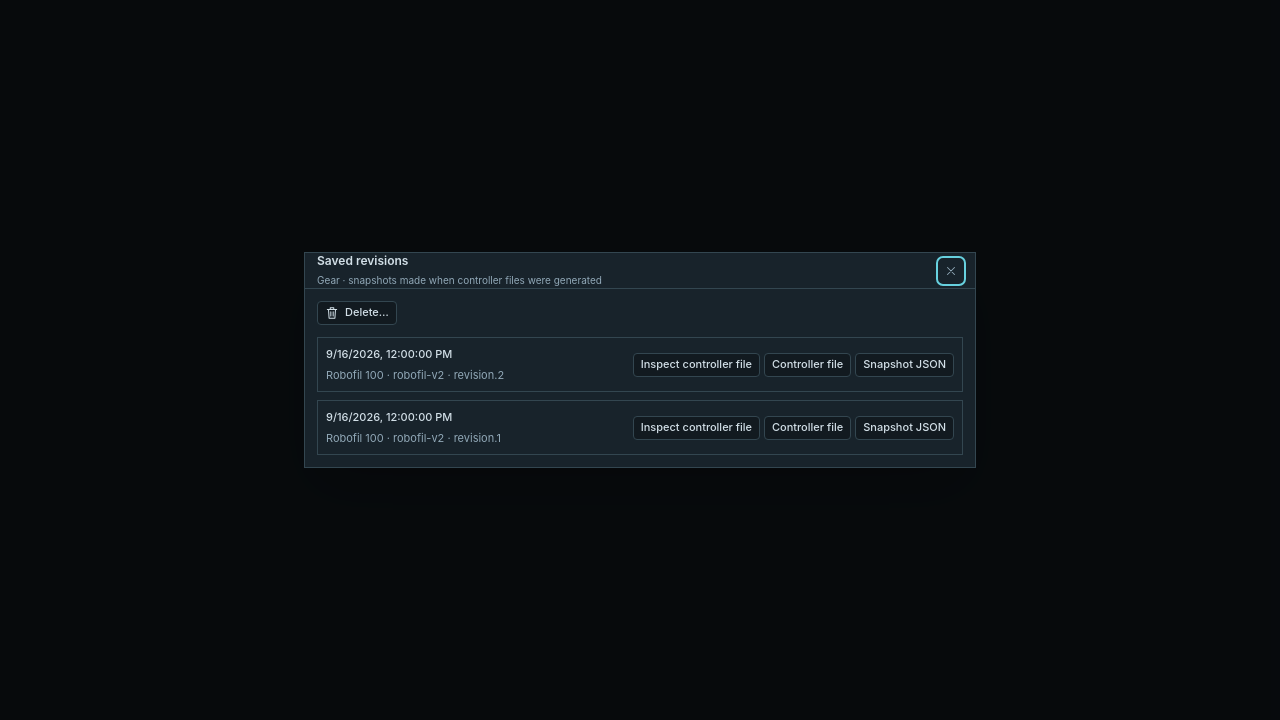
Test case: ProjectRevisionsDialog deletion selection › shows checkboxes only in delete mode and confirms the selected set once
Click the button "Delete…".
click(357, 313)  # box x1=317 y1=301 x2=397 y2=325
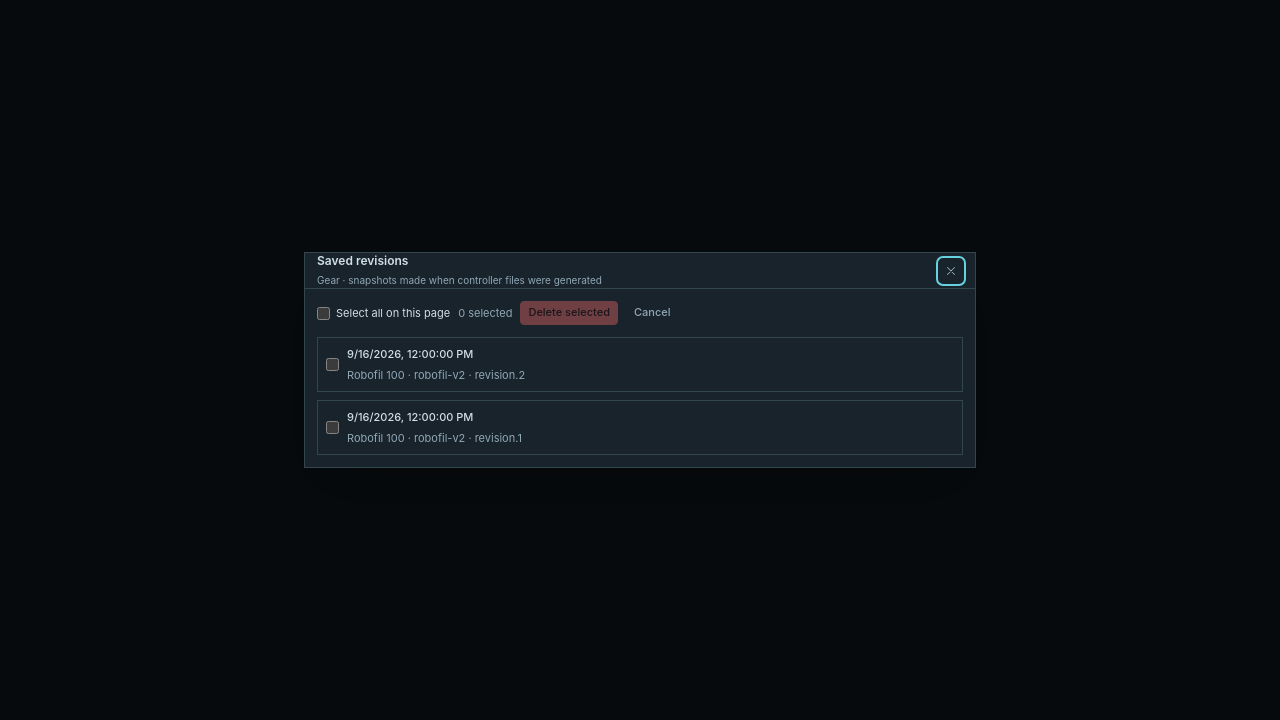
Check: the number of checkboxes is 3
Click the checkbox named "Select revision revision.2".
click(332, 364)  # box x1=326 y1=358 x2=339 y2=371
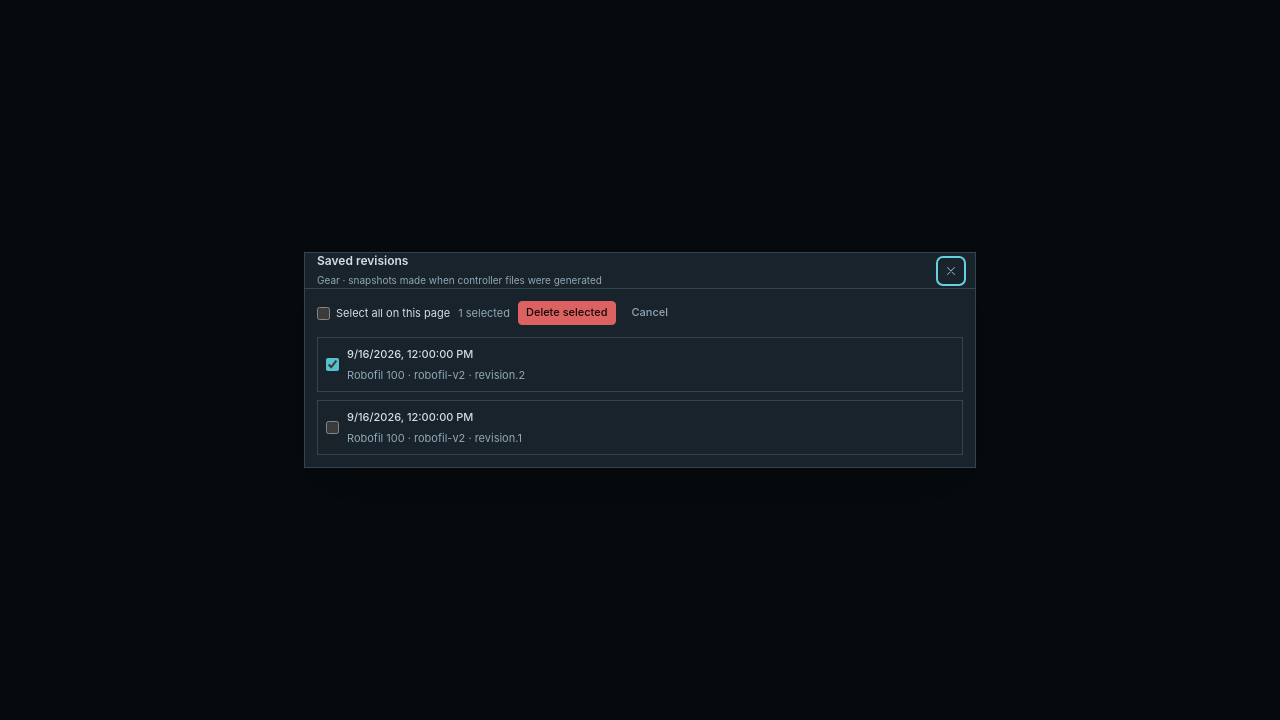
Check: the text "1 selected" is shown, box x1=458 y1=305 x2=510 y2=321
Click the checkbox labelled "Select all on this page".
click(324, 313)  # box x1=317 y1=306 x2=330 y2=320
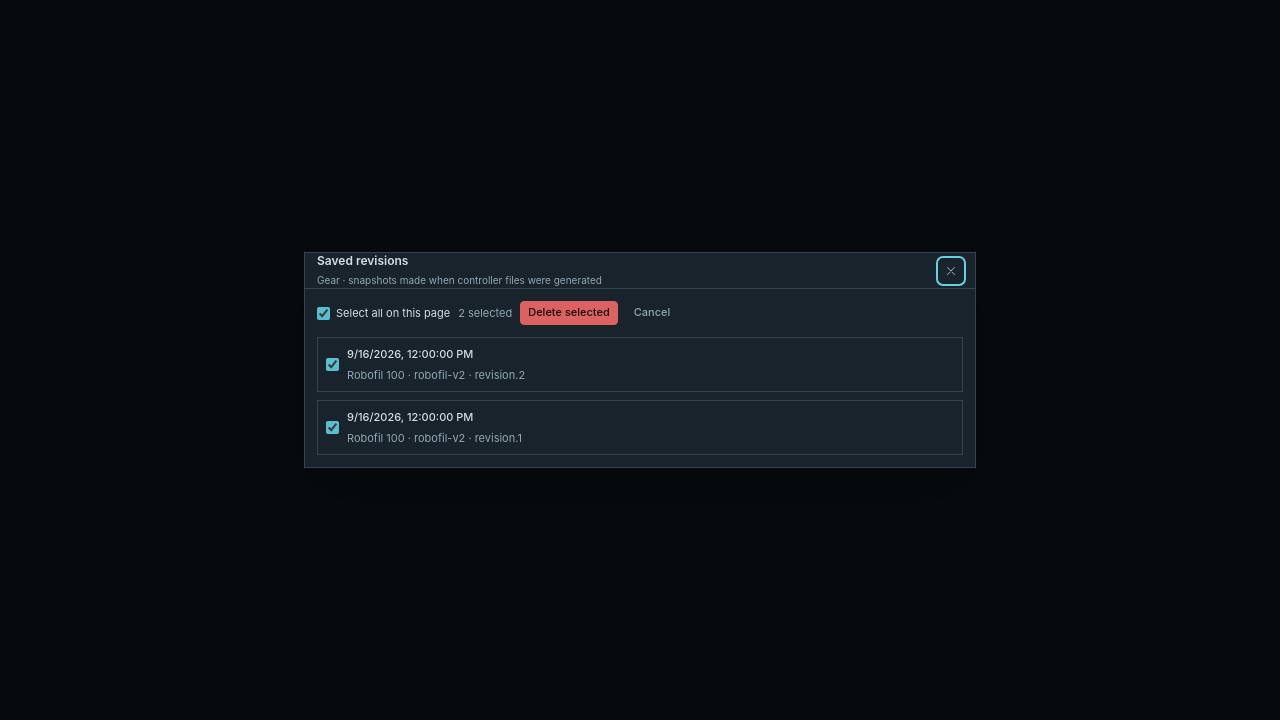
Check: the text "2 selected" is shown, box x1=458 y1=305 x2=512 y2=321
Click the button "Delete selected".
click(569, 313)  # box x1=520 y1=301 x2=618 y2=325
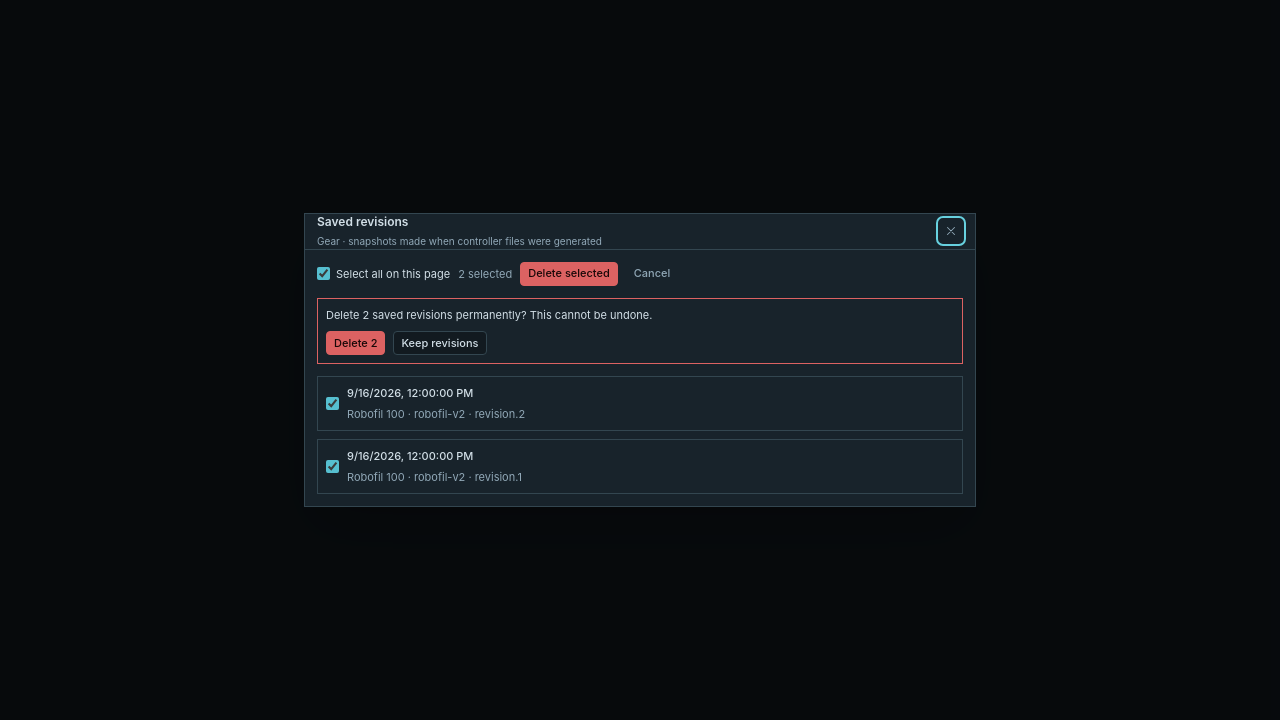
Check: the text "cannot be undone" is shown, box x1=453 y1=308 x2=652 y2=322
Click the button "Delete 2".
click(356, 343)  # box x1=326 y1=331 x2=386 y2=355
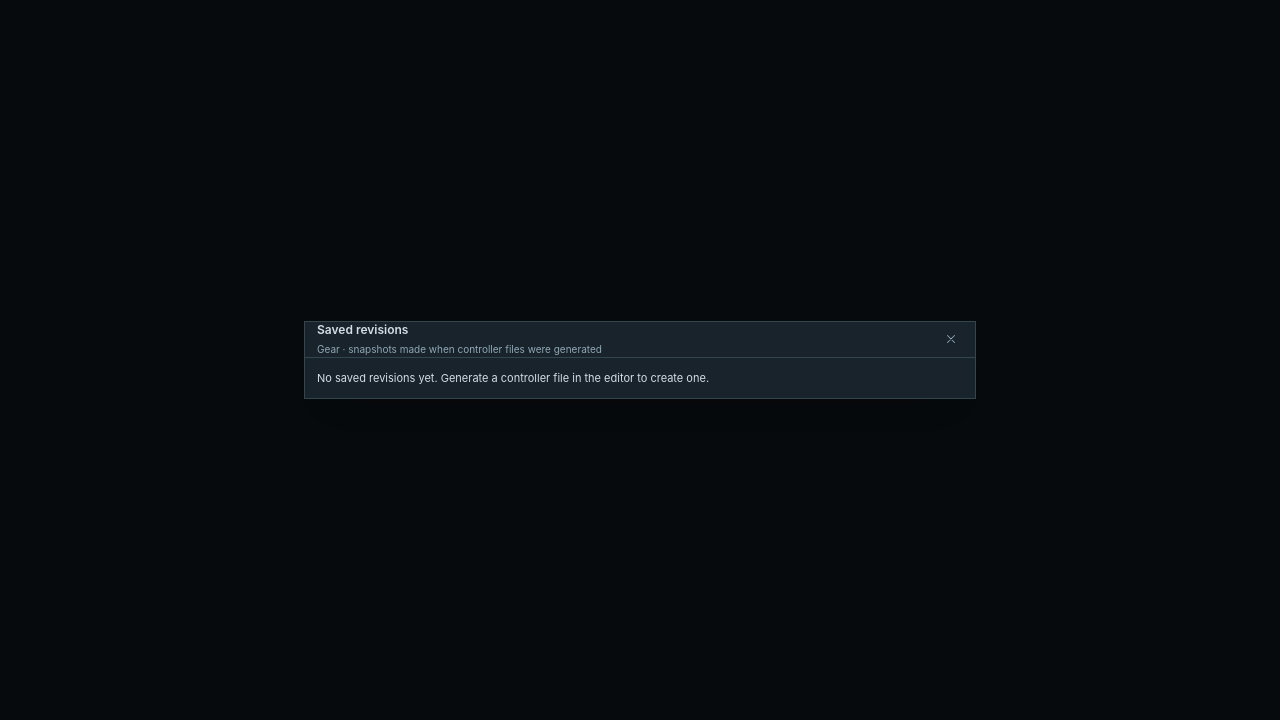
Check: no list items are shown
